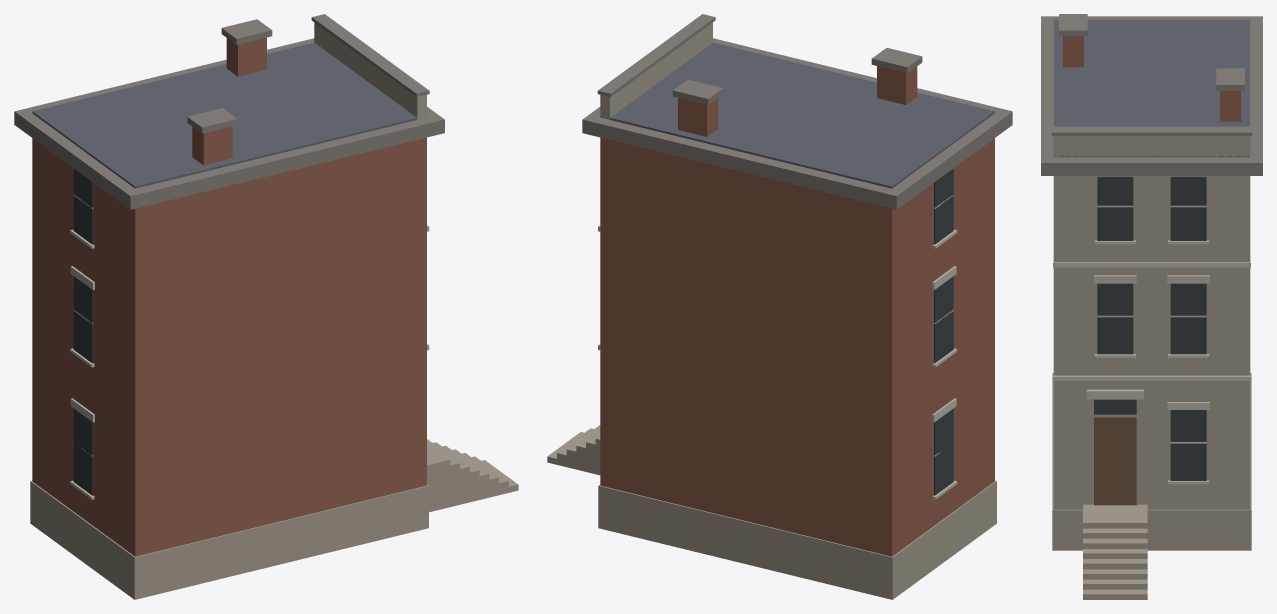
Rendered from house_1801_indiana__draft_1904.glb.
The picture shows the model from 3 angles, left to right: view 1: azimuth 30°, elevation 25°; view 2: azimuth 150°, elevation 25°; view 3: azimuth 270°, elevation 25°; orthographic projection. The views are drawn at different scales.
Parts seen in each view (by area): view 1: house_1801_indiana__draft_1904; view 2: house_1801_indiana__draft_1904; view 3: house_1801_indiana__draft_1904.
Part boxes in pixels (bbox=[...]): house_1801_indiana__draft_1904: bbox=[14, 14, 518, 599]; house_1801_indiana__draft_1904: bbox=[547, 14, 1012, 599]; house_1801_indiana__draft_1904: bbox=[1041, 14, 1262, 599].
Size of the model in its own units: 12.65 by 13.34 by 6.2.
